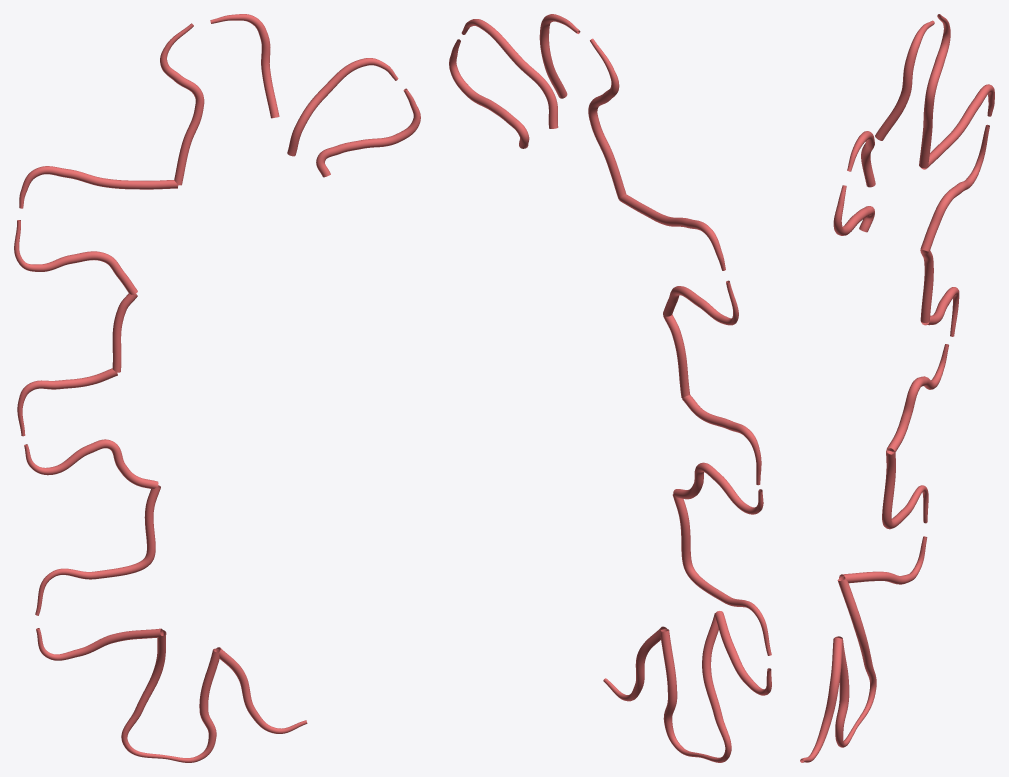
The model's file is Intrarenal_arteries_of_right_kidney_BezierCurve.446.glb.
3 views of the same model, side by side, from view 1: azimuth 30°, elevation 25°; view 2: azimuth 150°, elevation 25°; view 3: azimuth 270°, elevation 25° (orthographic). The views are drawn at different scales.
Visible parts, largest first — view 1: Intrarenal_arteries_of_right_kidney_BezierCurve.446; view 2: Intrarenal_arteries_of_right_kidney_BezierCurve.446; view 3: Intrarenal_arteries_of_right_kidney_BezierCurve.446.
Part boxes in pixels (x1,y1,x2,y2): Intrarenal_arteries_of_right_kidney_BezierCurve.446: (14,14,420,762); Intrarenal_arteries_of_right_kidney_BezierCurve.446: (449,14,771,762); Intrarenal_arteries_of_right_kidney_BezierCurve.446: (800,14,994,762).
Bounding box in the file's own units: 0.041 × 0.079 × 0.0184.
